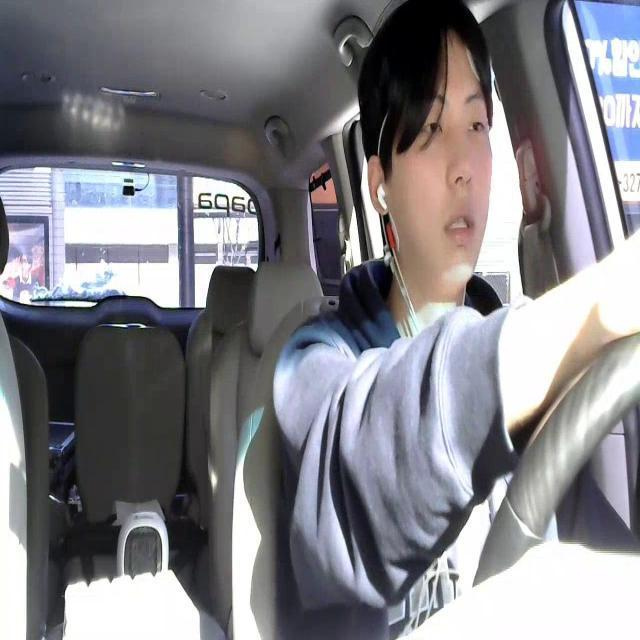Attentive: (354, 0, 494, 291)
